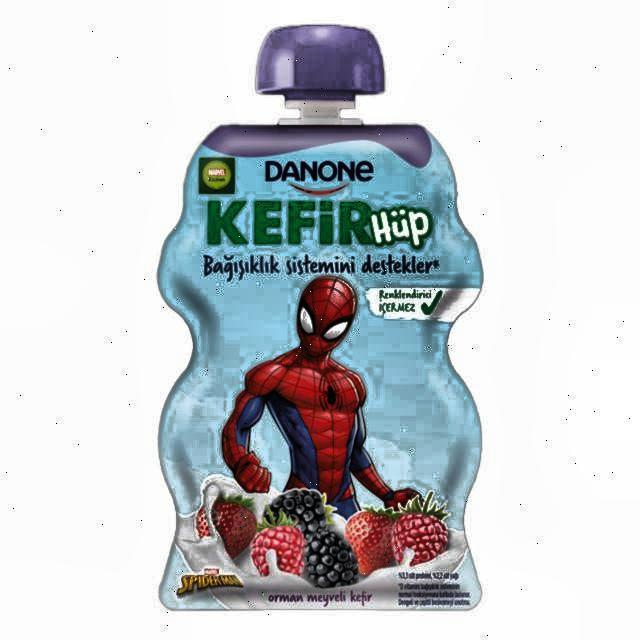plastic: (158, 23, 486, 614)
